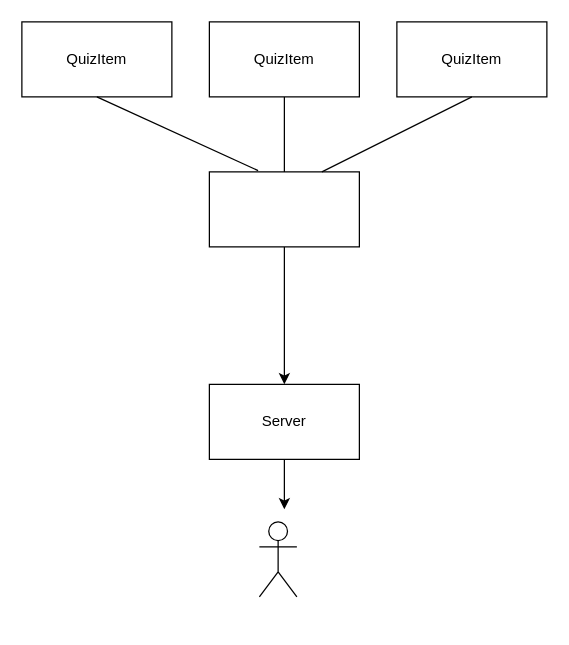
Some shapes in this 569 by 645 pixel diagram are drawn without their labels. The shapes that lost their labels are listed below. From the top down, each one's centre as x and y in pixels, then its label:
At point 283,209: "Quiz".
At point 277,559: "Client".
